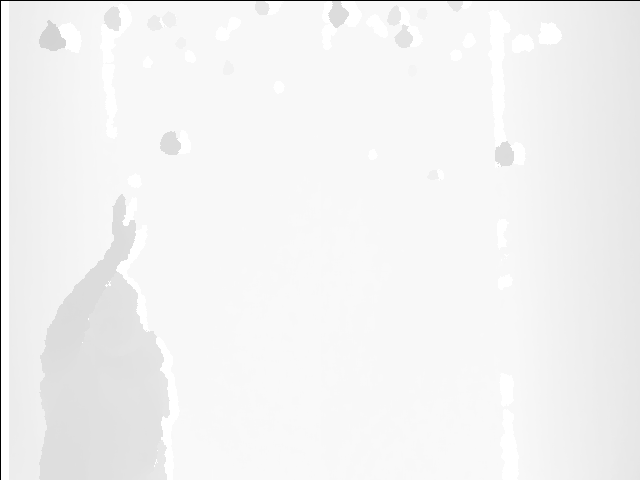hand: (109, 196, 140, 260)
